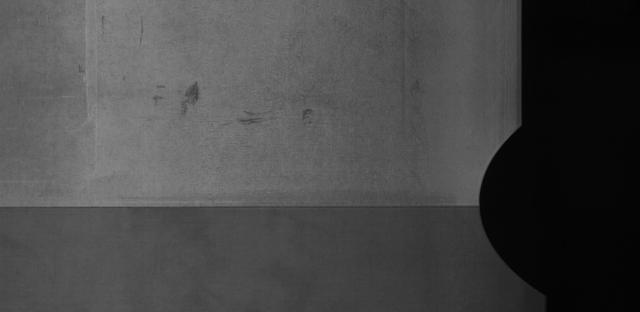welding_line: (2, 197, 494, 220)
